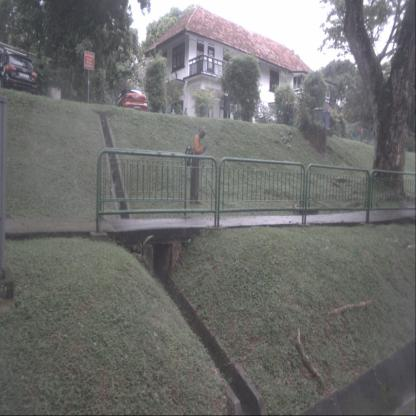human-pedestrian-adult: (185, 124, 208, 206)
vehicle-car: (0, 46, 38, 95), (115, 87, 148, 112)
